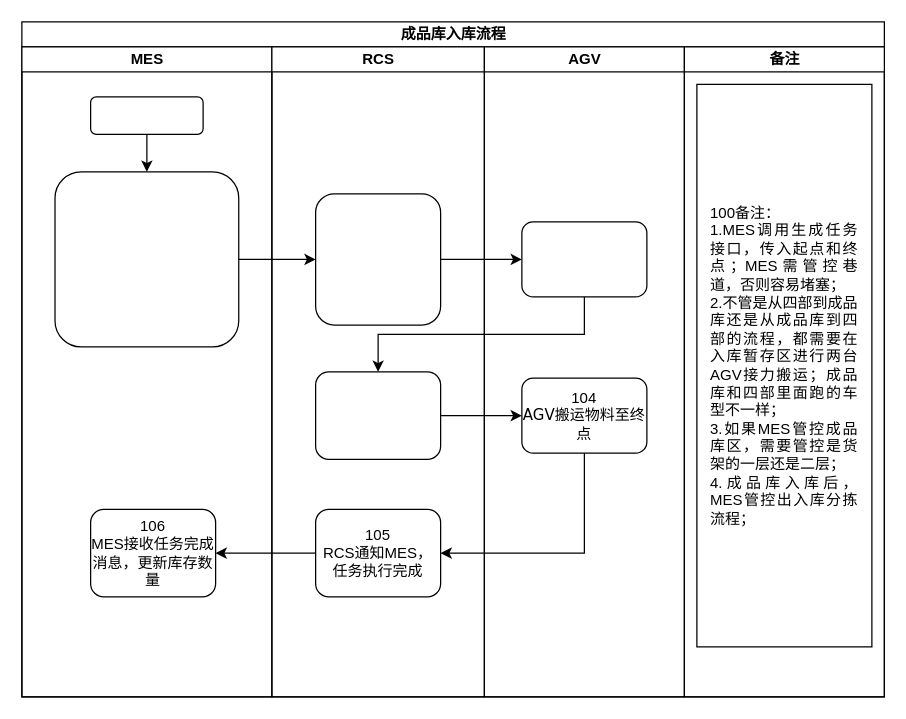
This 906x719 diagram has some shape labels left out. Here are the shapes that lost their labels. From the top down, the centre of each, then its label:
pixel 146 115: 开始
pixel 146 259: 100 成品打包区和线边区 成品入库： 作业人员把成品打包好并码垛完成时， 通过PDA的MES系统，下达入库搬运至RCS系统
pixel 377 258: 101 RCS调度AGV从线边缓存区 搬运物到四部一楼入库接驳区
pixel 584 259: 102 AGV搬运物料至终点
pixel 377 415: 103 RCS调度AGV从四部一楼入库接驳区搬运物料到成品库
